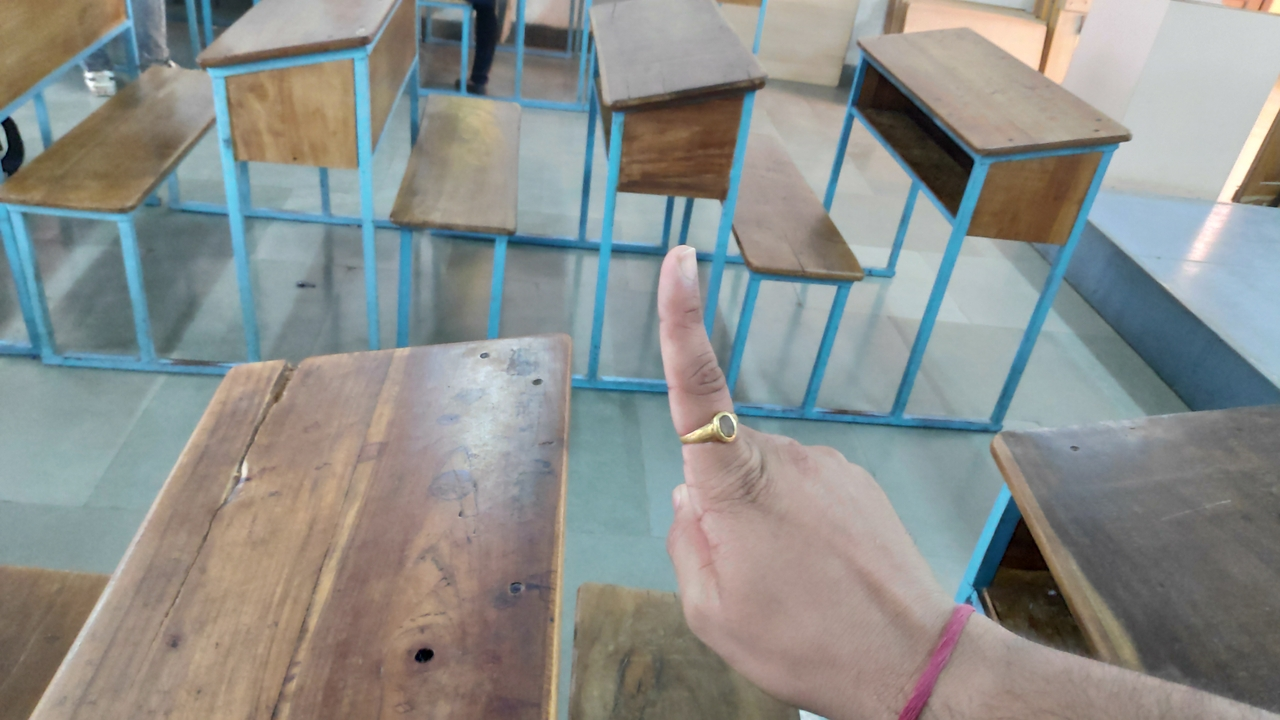fingertip: (644, 238, 712, 300)
